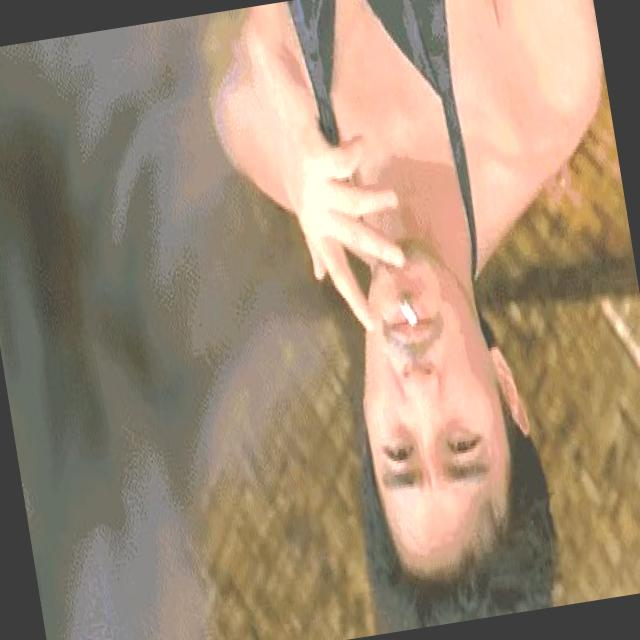cigarette: (396, 286, 430, 346)
